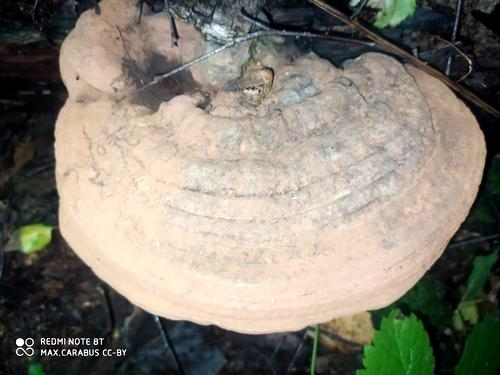Ganoderma - Fruit Body: (51, 0, 488, 327)
